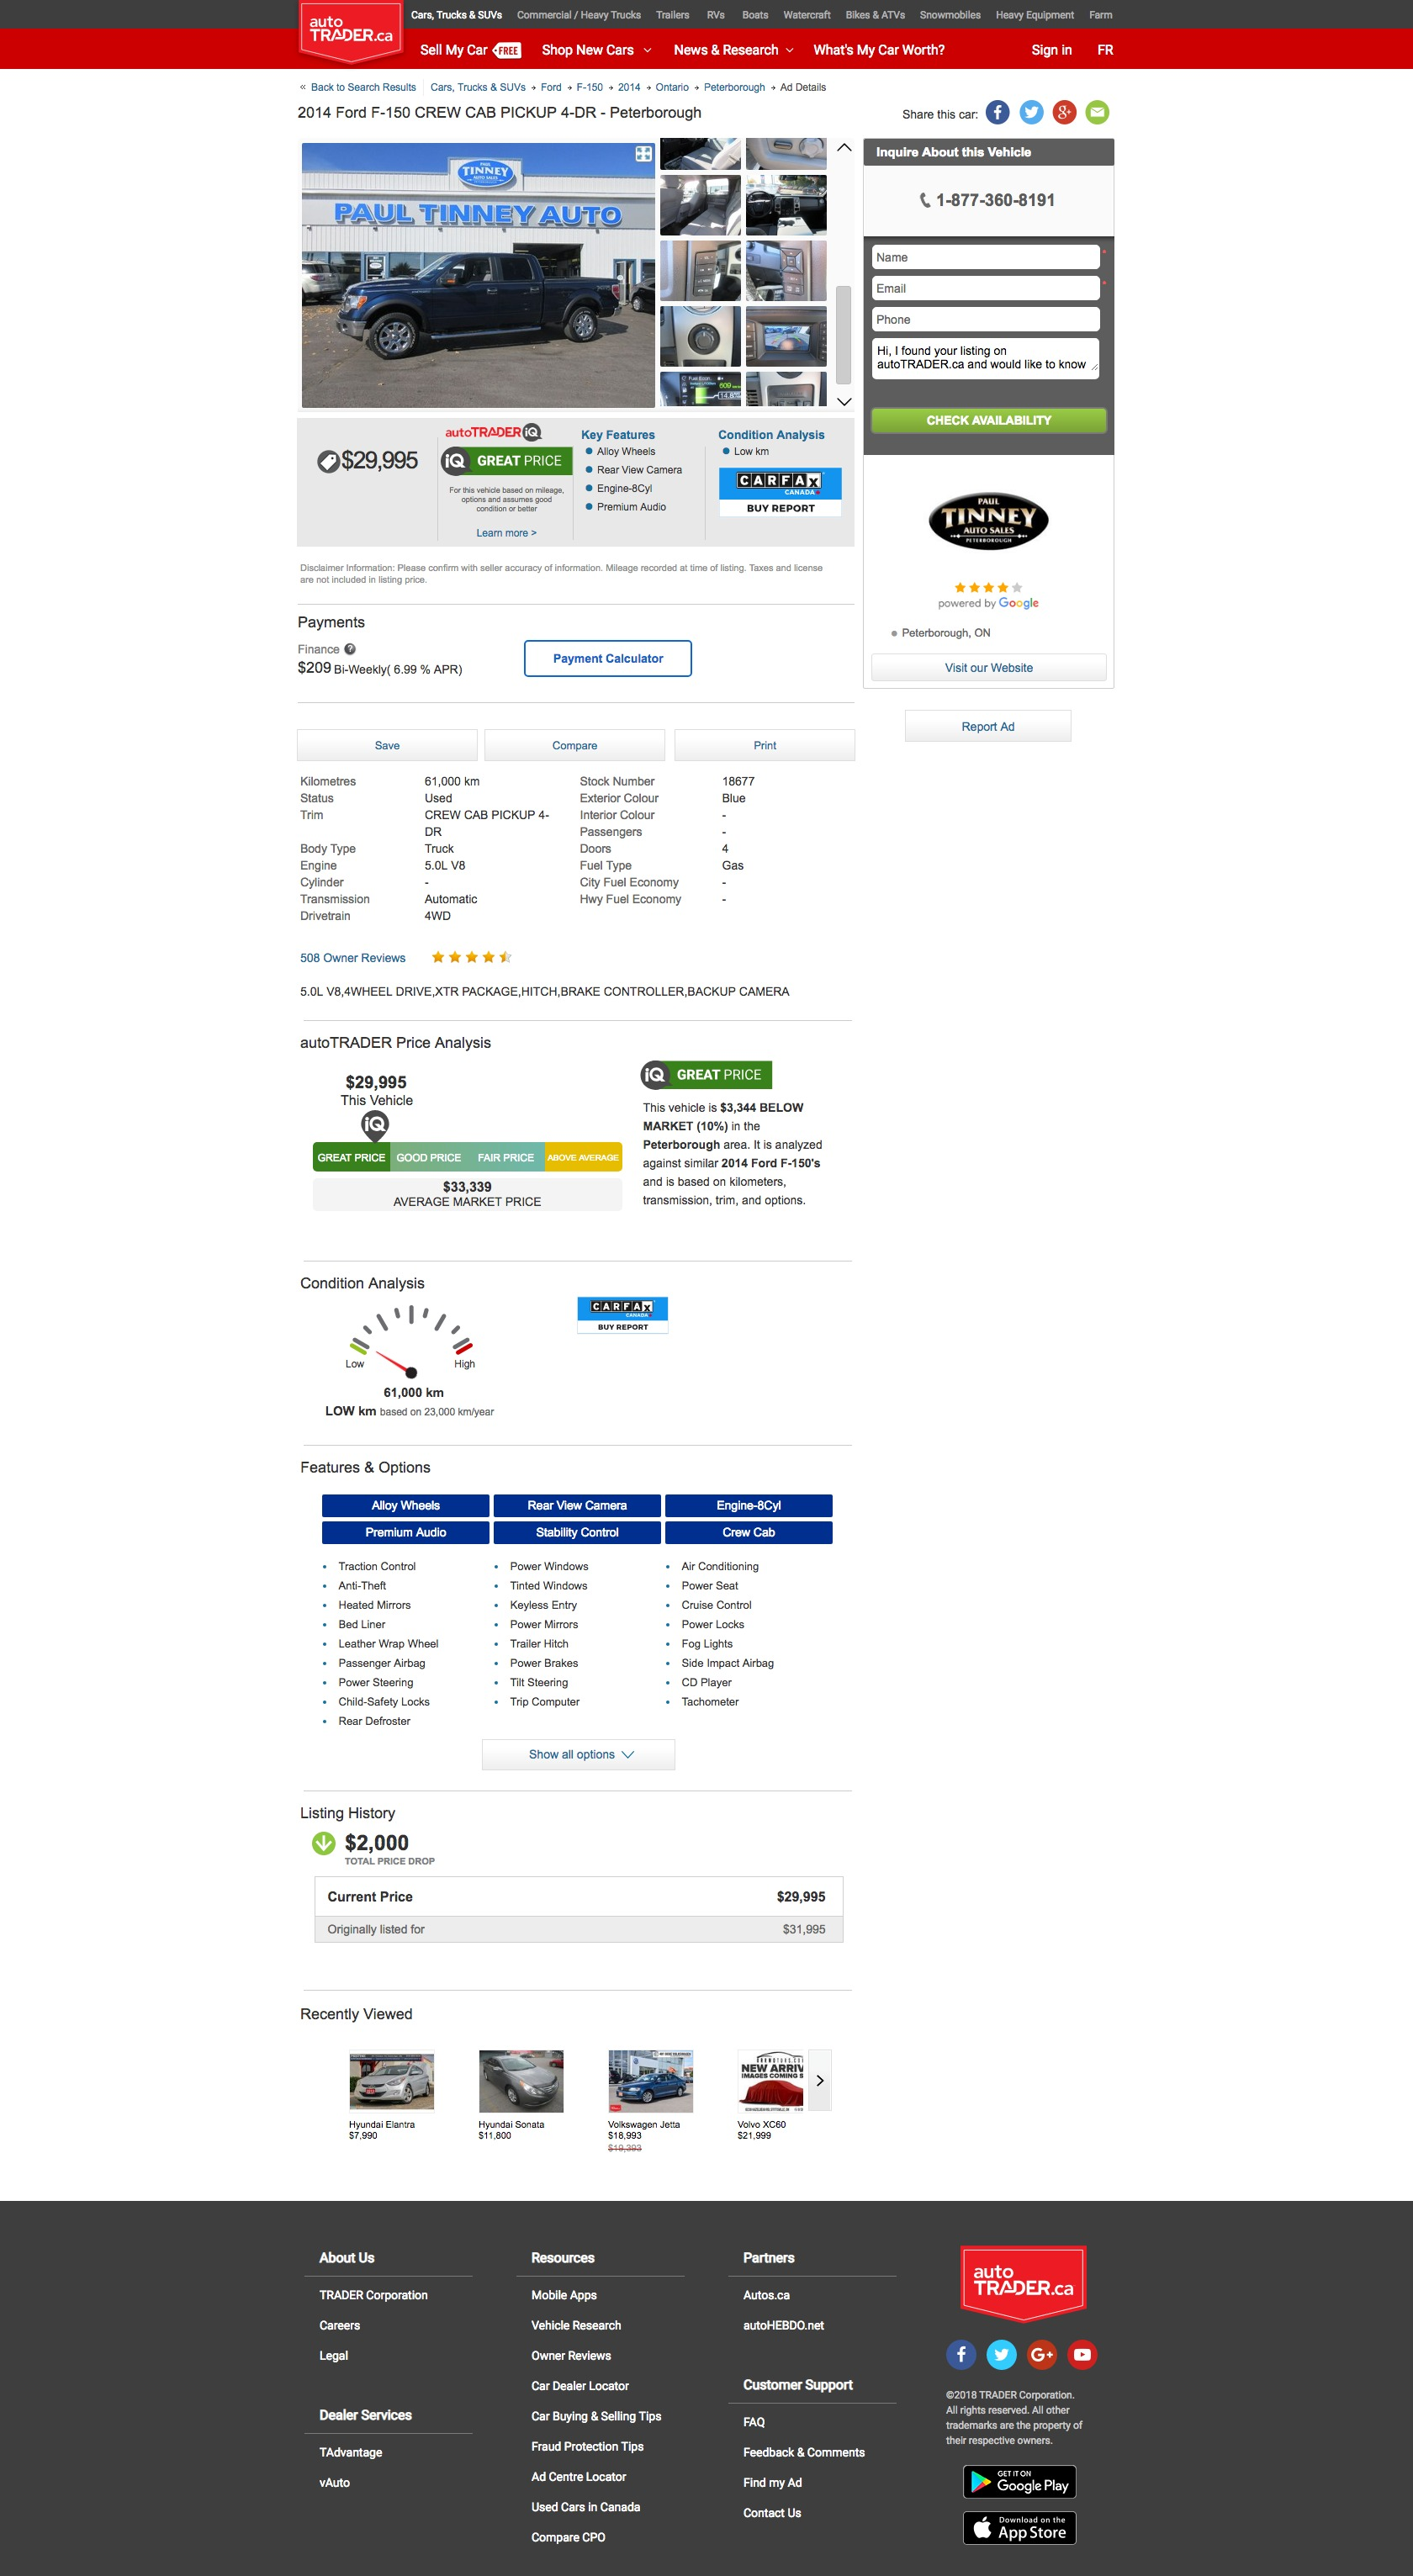car: (837, 397, 854, 409)
